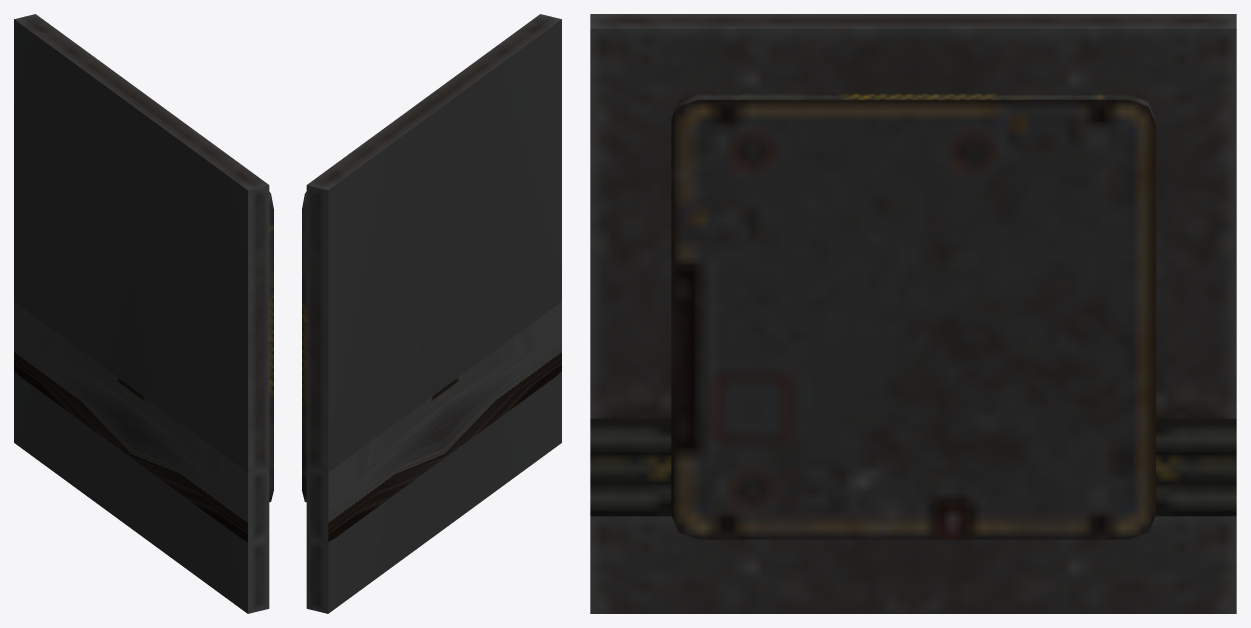
The model's file is Wall_top.FBX.
The picture shows the model from 3 angles, left to right: view 1: azimuth 30°, elevation 25°; view 2: azimuth 150°, elevation 25°; view 3: azimuth 270°, elevation 25°; orthographic projection. The views are drawn at different scales.
Visible parts, largest first — view 1: Wall_top; view 2: Wall_top; view 3: Wall_top.
Boxes of the visible parts, box(x1,y1,x2,y2) form: Wall_top: box(14, 14, 273, 613); Wall_top: box(302, 14, 561, 613); Wall_top: box(590, 14, 1236, 613).
Size of the model in its own units: 40.89 by 300 by 300.
